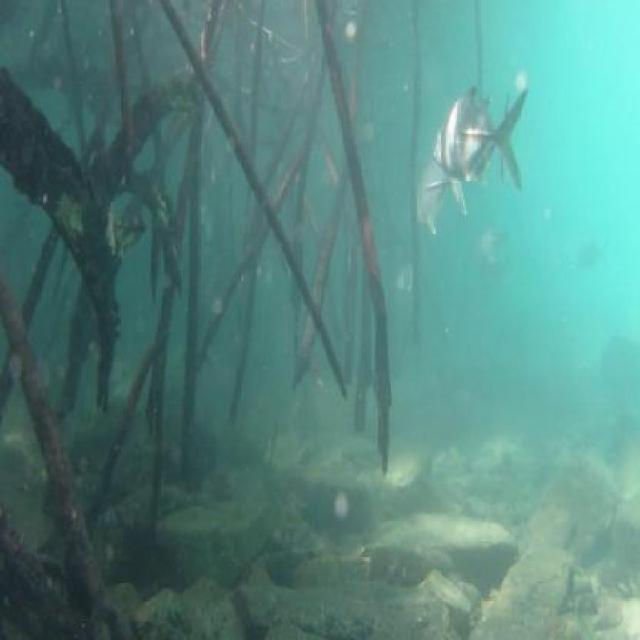Caranx_sexfasciatus_juvenile: (430, 72, 528, 202), (413, 140, 476, 243), (480, 213, 514, 262)
